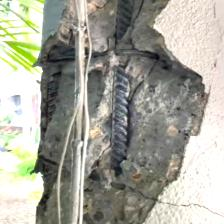High: (31, 1, 211, 223)
